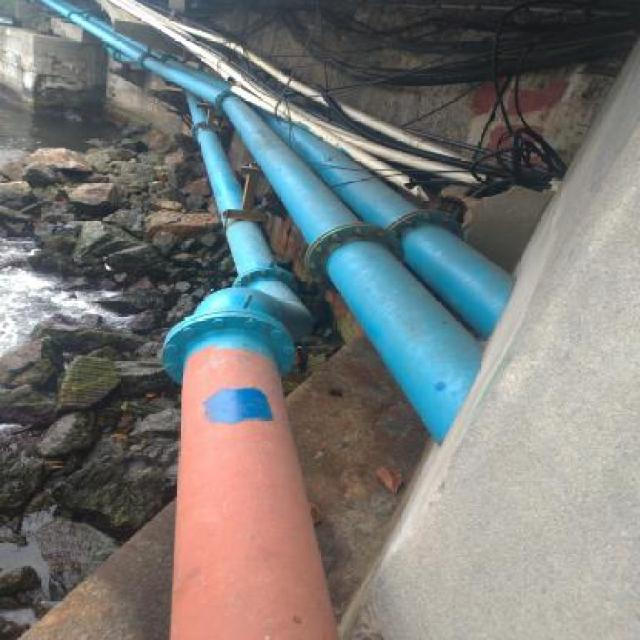gas: (68, 15, 491, 446), (172, 96, 338, 640), (264, 117, 518, 339)
